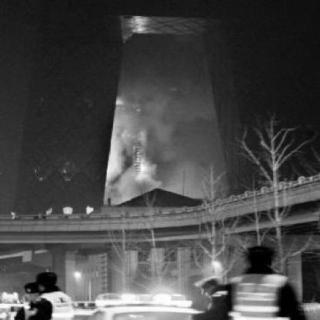Fire: (102, 80, 178, 203)
